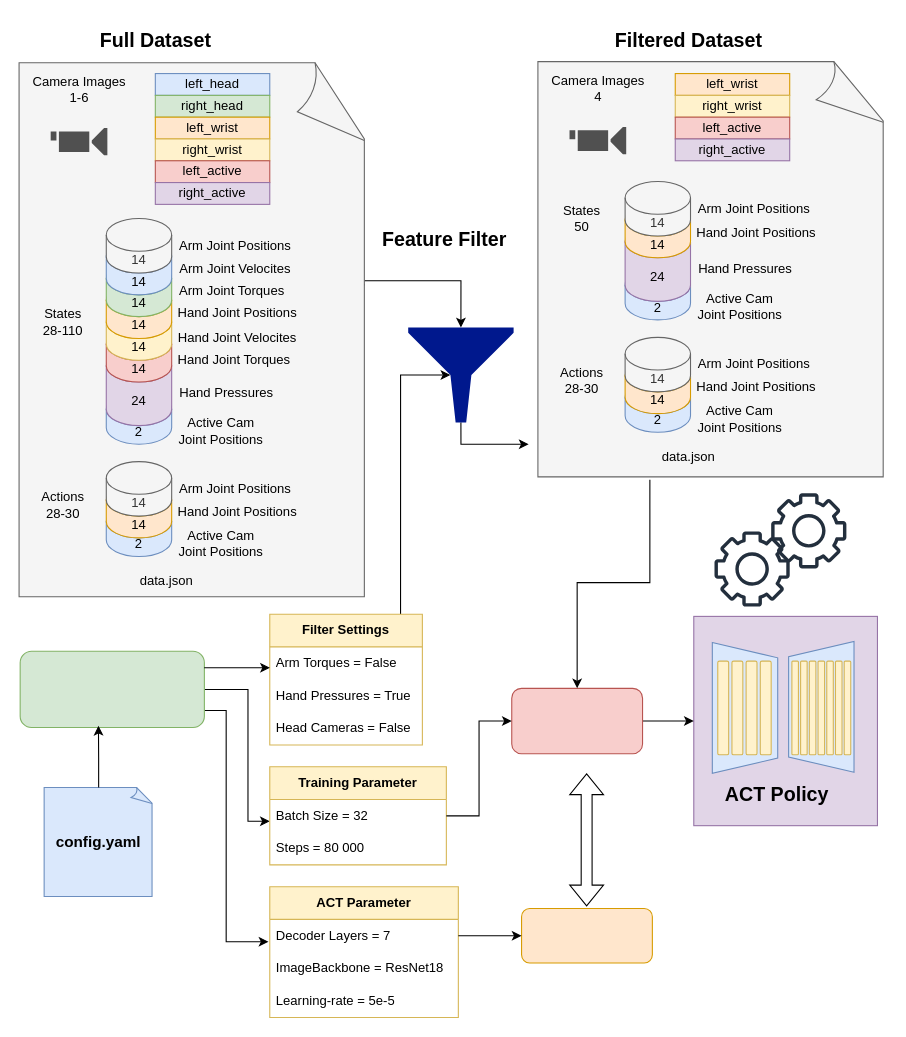
The diagram is 906 pixels wide and 1037 high, and some of its shapes have lost their labels. Each missing label, with the centre of its shape:
ACT Model: pixel 586 935
run_ablation_study: pixel 111 689
train.py: pixel 577 720
